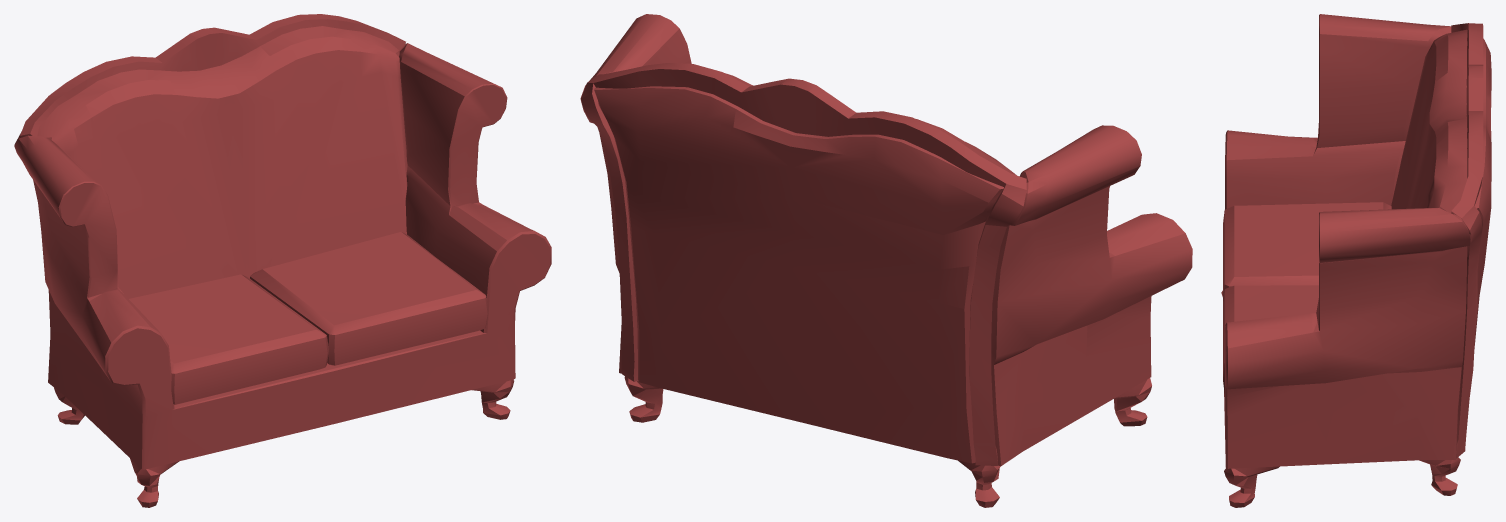
3 views of the same model, side by side, from view 1: azimuth 30°, elevation 25°; view 2: azimuth 150°, elevation 25°; view 3: azimuth 270°, elevation 25° (orthographic). The views are drawn at different scales.
Visible parts, largest first — view 1: Arm_Chair; view 2: Arm_Chair; view 3: Arm_Chair.
Part boxes in pixels (x1,y1,x2,y2): Arm_Chair: (14, 14, 551, 507); Arm_Chair: (580, 14, 1192, 507); Arm_Chair: (1221, 14, 1491, 507).
Bounding box in the file's own units: 3.23 × 2.36 × 1.67.
